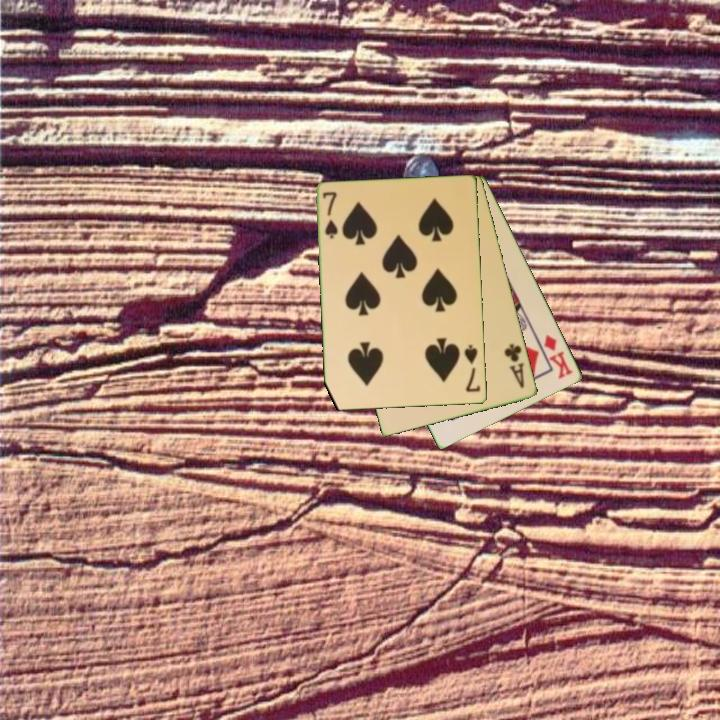7s: (461, 342, 483, 395), (319, 188, 341, 241)
Ac: (501, 340, 527, 391)
Kd: (540, 331, 576, 382)
